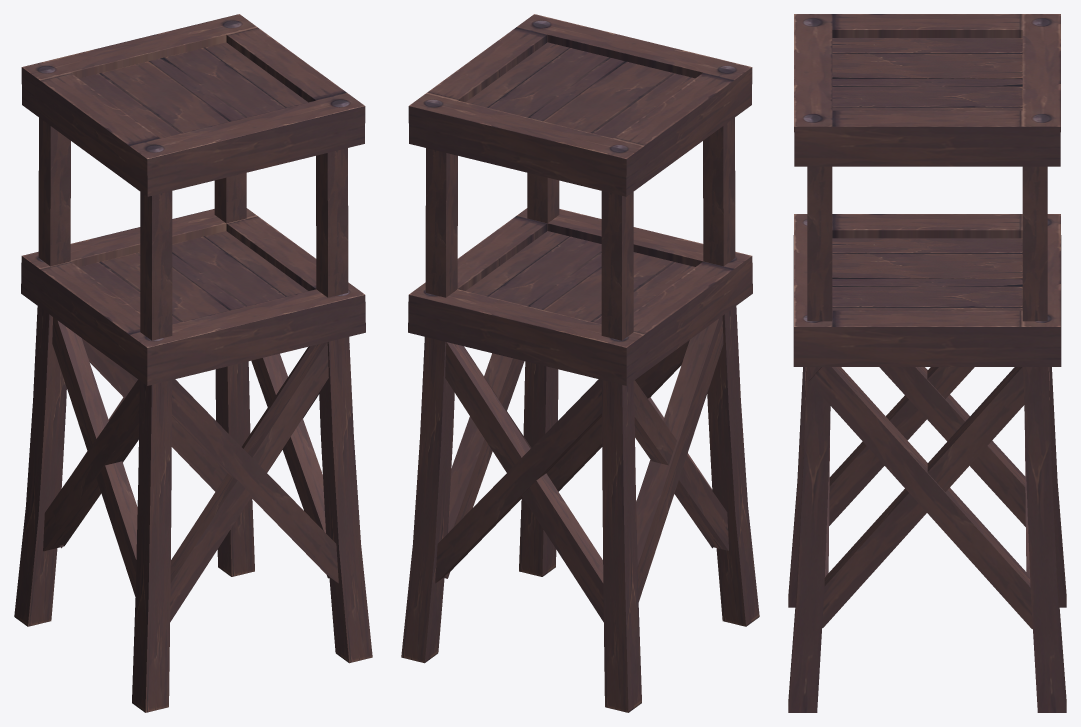
File: Tower_a.FBX
3 renders of one model, left to right at view 1: azimuth 30°, elevation 25°; view 2: azimuth 150°, elevation 25°; view 3: azimuth 270°, elevation 25°, orthographic. The views are drawn at different scales.
Parts seen in each view (by area): view 1: Box036; view 2: Box036; view 3: Box036.
Boxes of the visible parts, box(x1,y1,x2,y2) form: Box036: box(14, 14, 372, 712); Box036: box(401, 14, 759, 712); Box036: box(788, 14, 1066, 712).
Size of the model in its own units: 2.55 by 5.91 by 2.55.
1 material, 1 textured.
